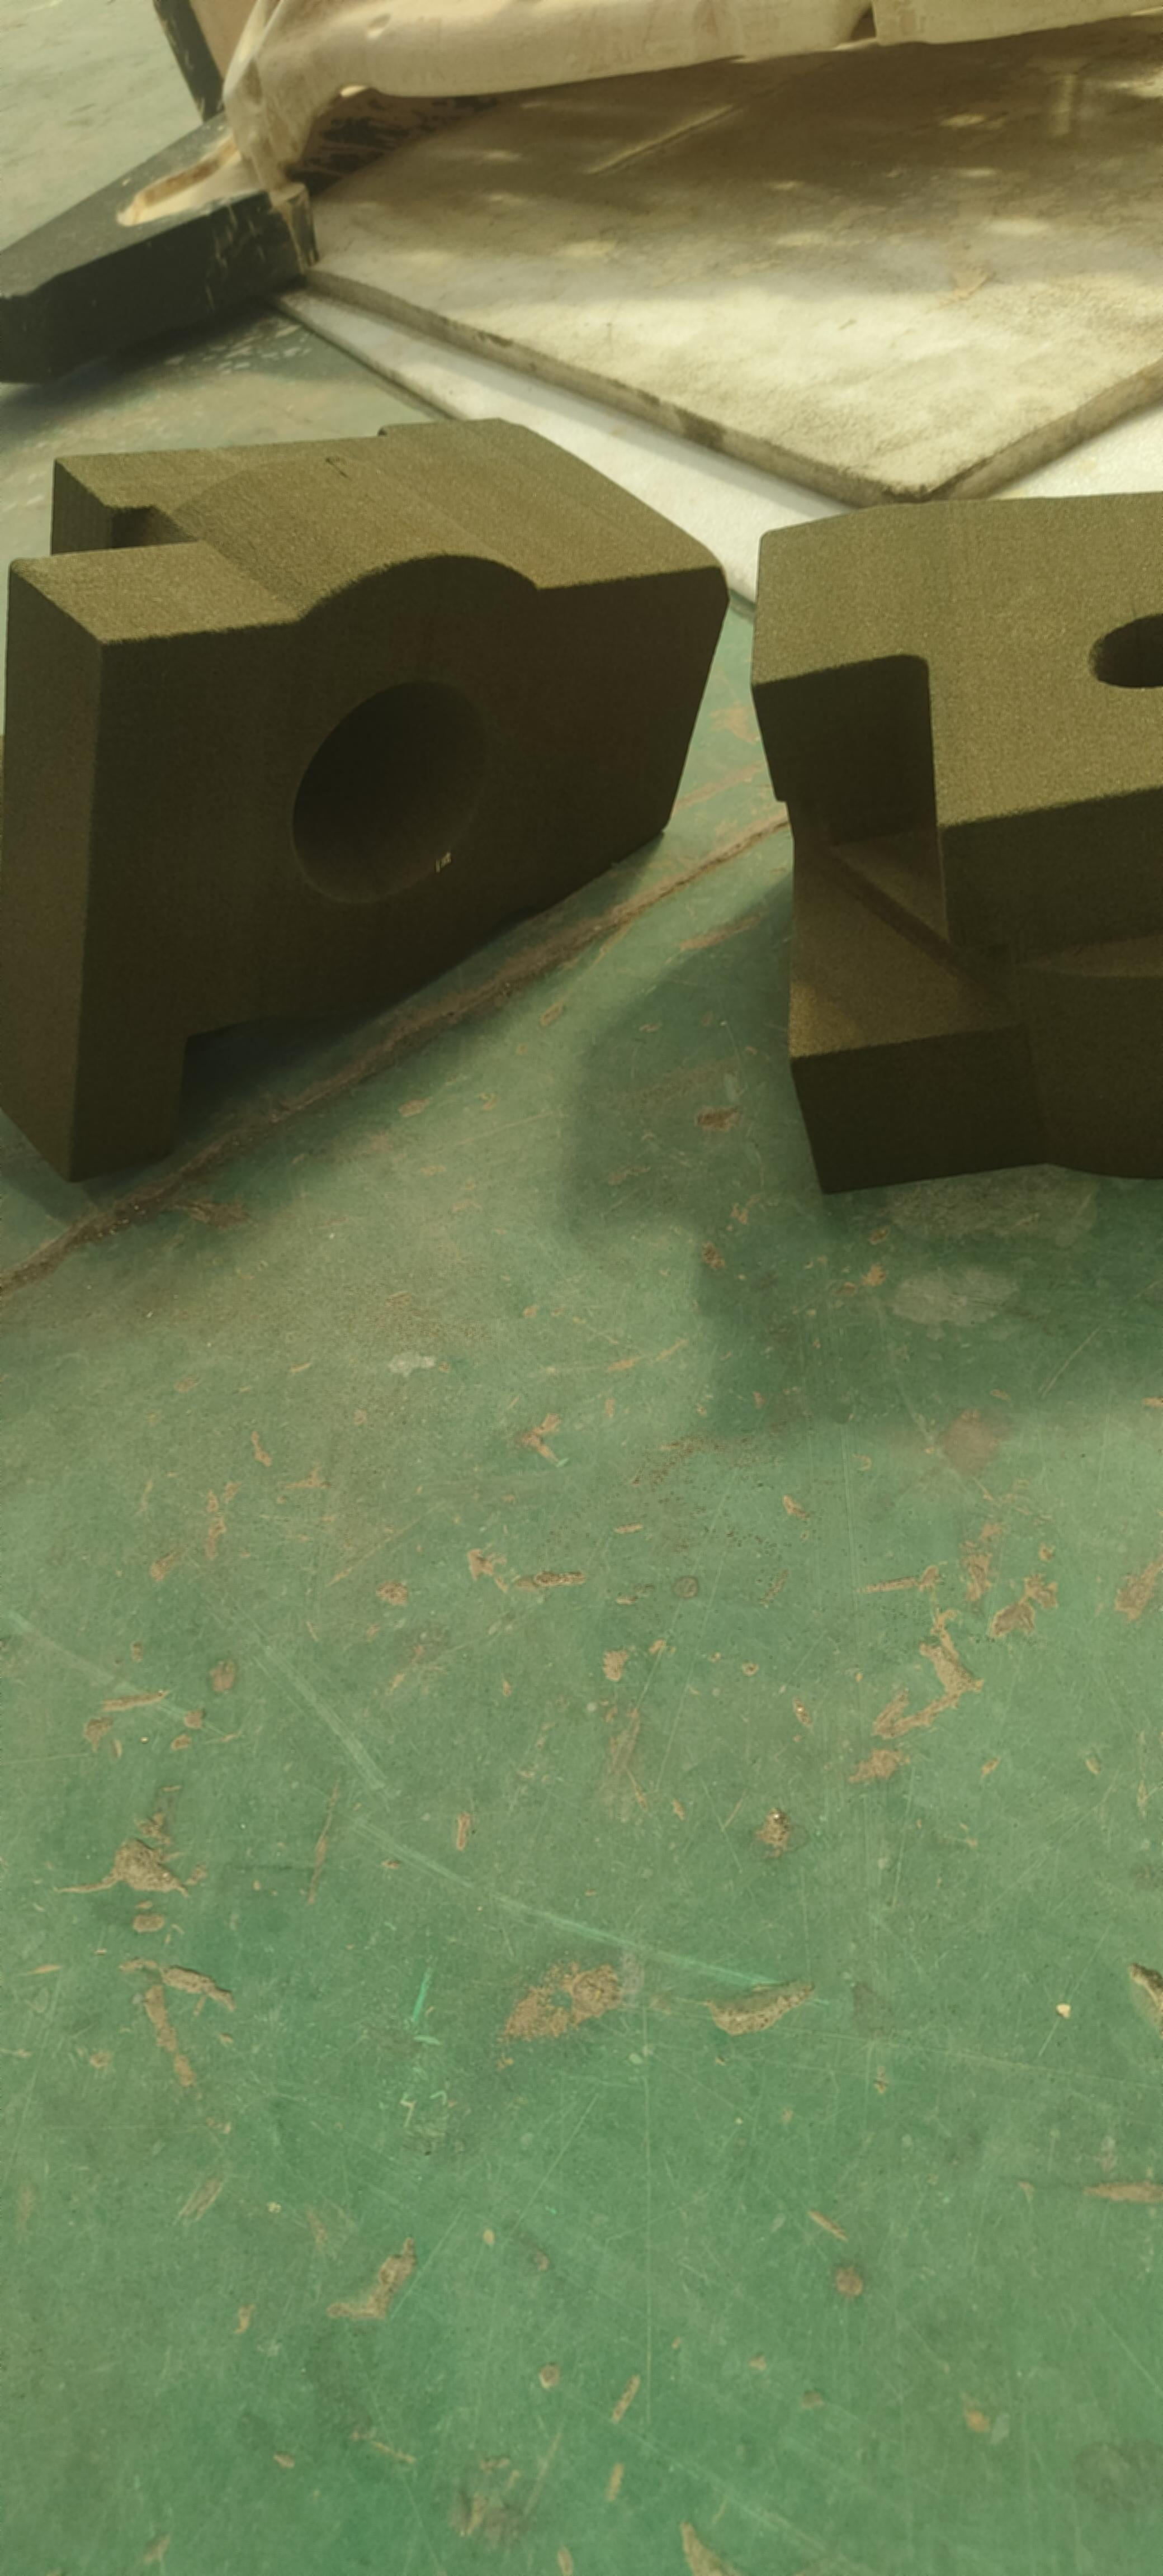pouring hole: (292, 682, 486, 904)
